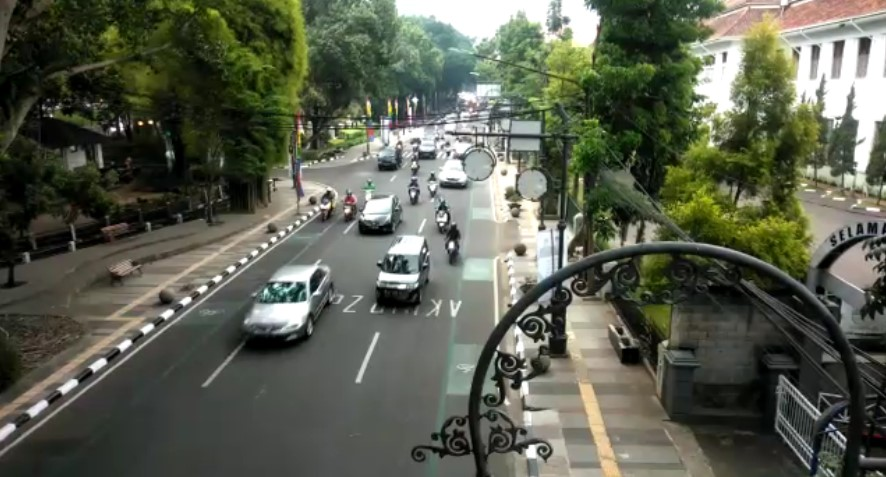mobil: (236, 263, 334, 346), (373, 235, 430, 306), (361, 194, 400, 234)
motor: (446, 225, 466, 264), (314, 187, 336, 221), (340, 189, 360, 226), (433, 198, 451, 231)
